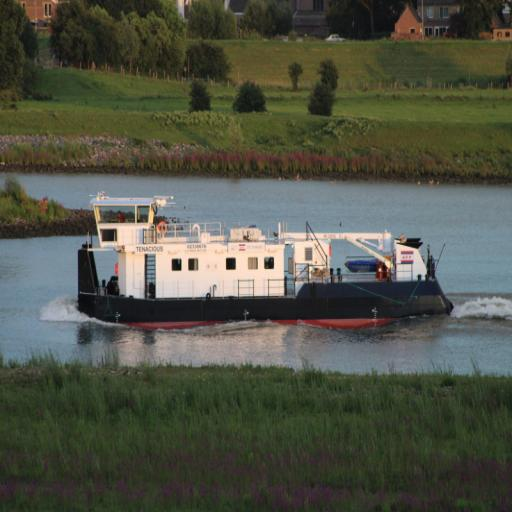tugboat: (74, 188, 457, 339)
